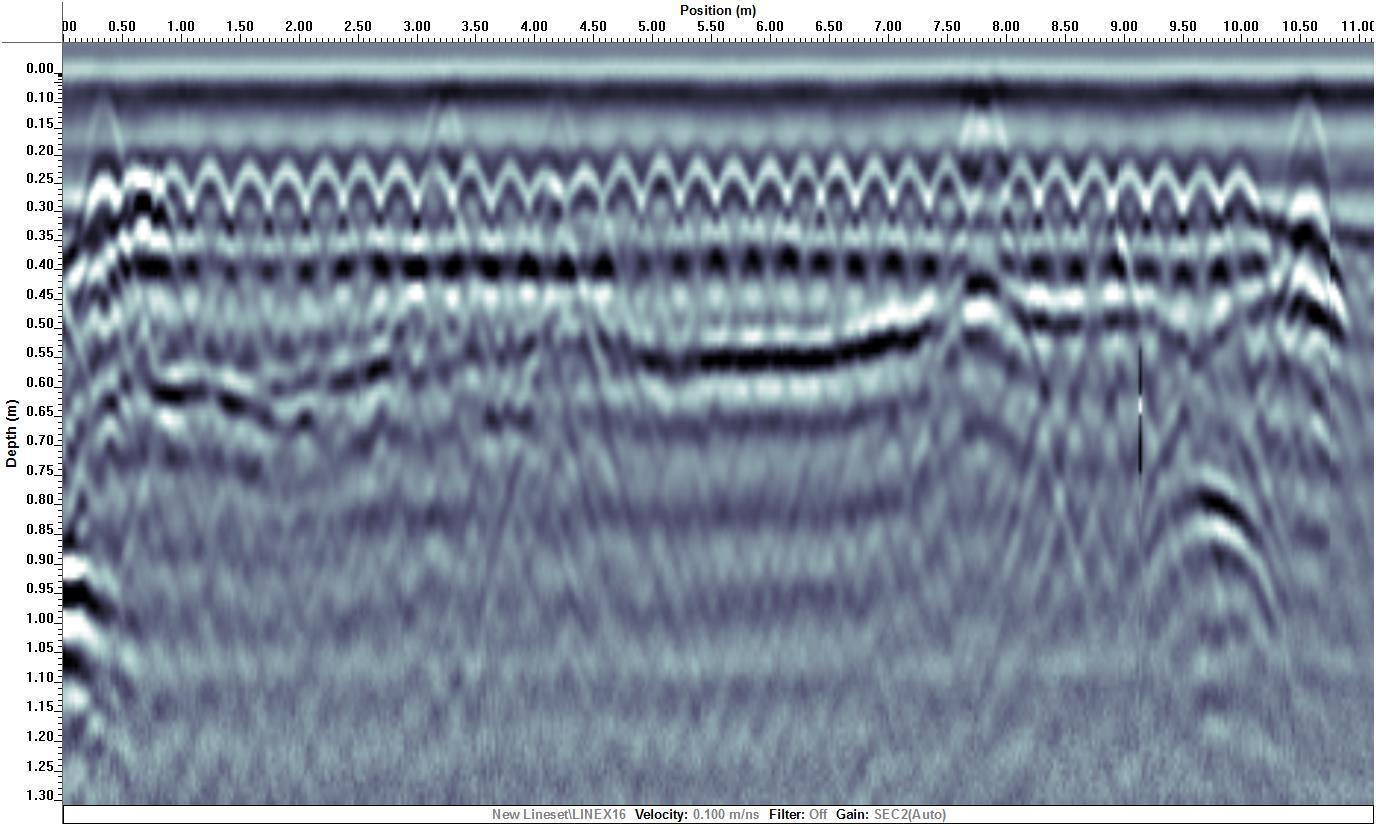hyperbola: (70, 100, 126, 248), (1223, 153, 1265, 248), (1180, 151, 1222, 246), (1147, 152, 1189, 247), (1112, 150, 1154, 245), (1080, 148, 1122, 243), (1038, 150, 1080, 245), (1004, 149, 1046, 244), (934, 147, 976, 242), (901, 146, 943, 241), (861, 145, 903, 240), (821, 145, 863, 240), (782, 148, 824, 243), (751, 147, 793, 242), (717, 150, 759, 245), (678, 159, 720, 254), (644, 157, 686, 252), (528, 161, 570, 256), (605, 153, 647, 248), (559, 159, 601, 254), (490, 146, 532, 241), (457, 150, 499, 245), (413, 158, 455, 253), (381, 156, 423, 251), (341, 154, 383, 249), (301, 154, 343, 249), (270, 157, 312, 252), (228, 155, 270, 250), (191, 156, 233, 251)
